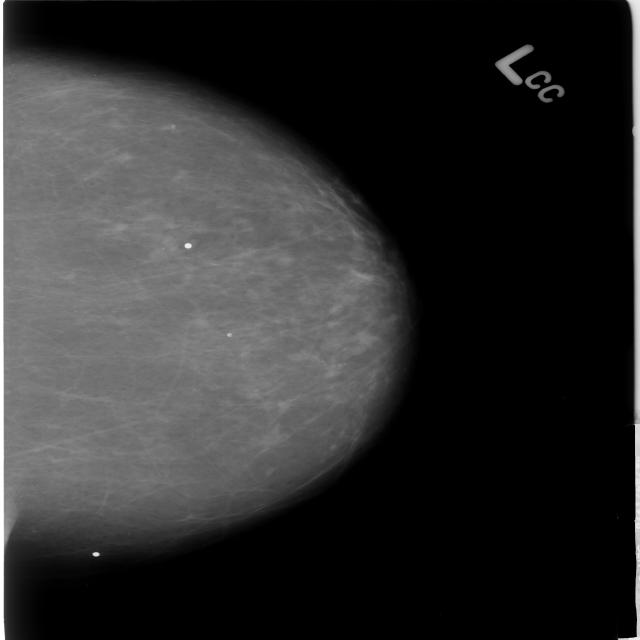normal: (0, 7, 405, 547)
